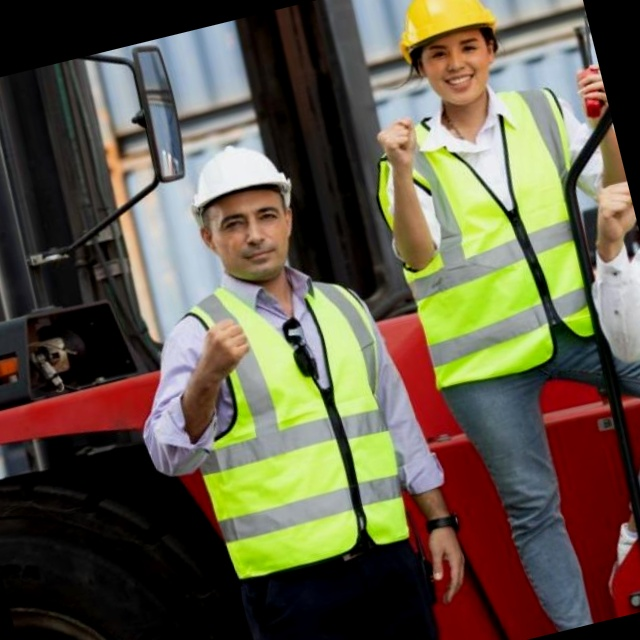Con_Casco: (177, 131, 318, 293), (388, 0, 519, 117)
Con_Chaleco: (157, 260, 433, 591), (370, 82, 622, 402)
